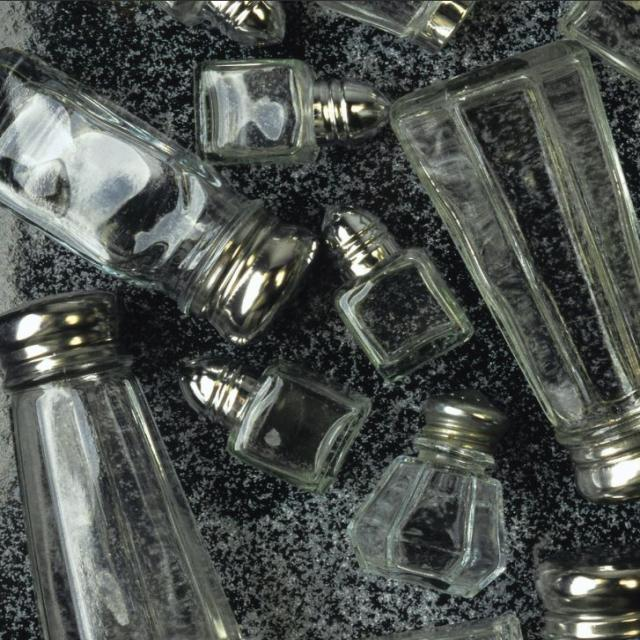electronic: (341, 384, 520, 597)
